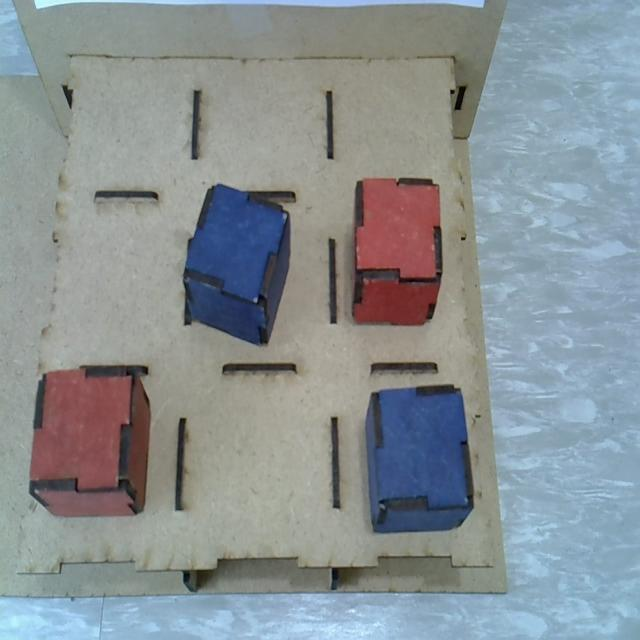blue_box: (184, 183, 292, 347), (365, 382, 474, 533)
red_box: (27, 371, 152, 510), (352, 176, 442, 327)
